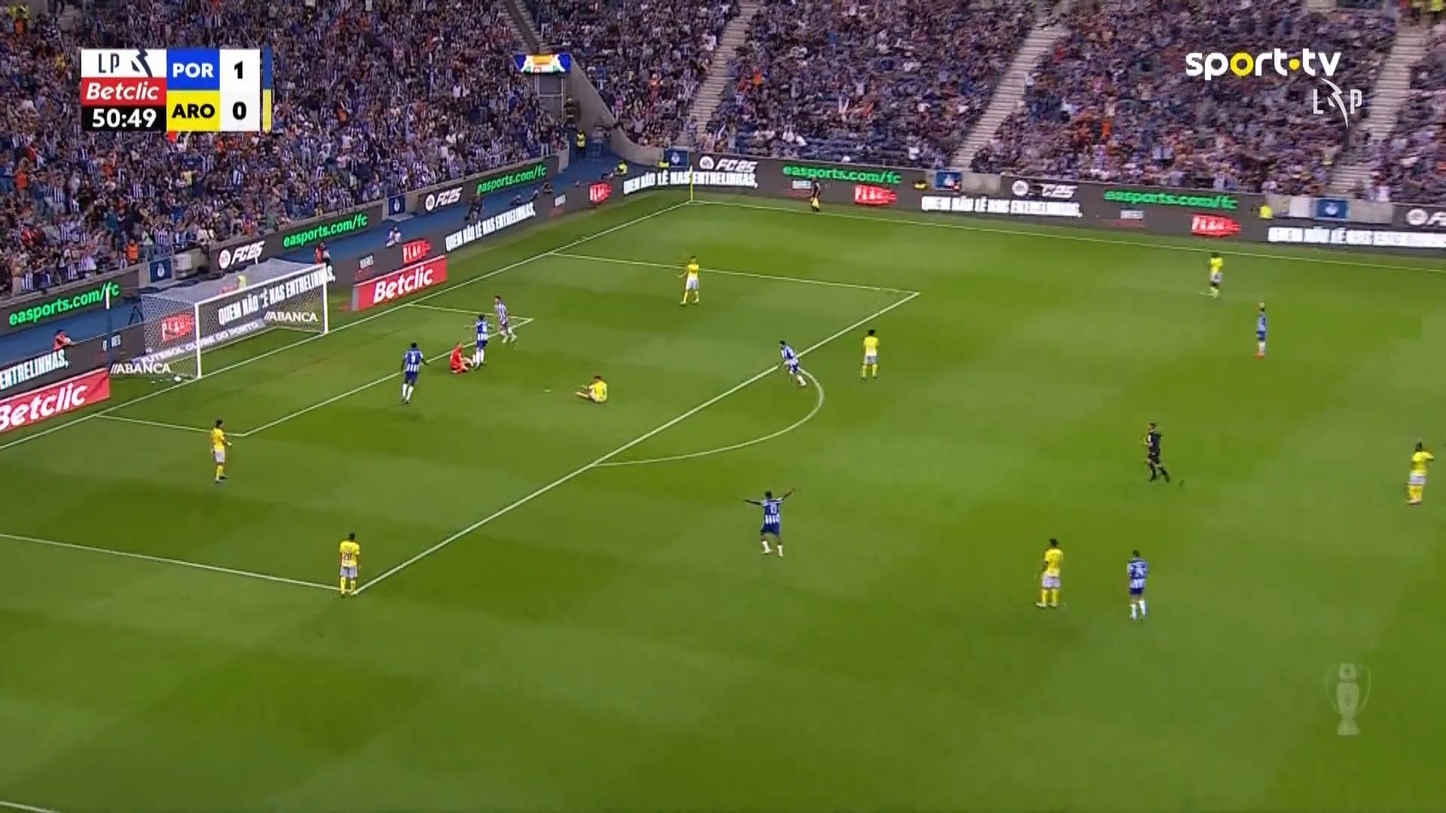goalkeeper: (448, 340, 472, 373)
player: (743, 486, 795, 557), (1035, 537, 1063, 608), (1404, 440, 1434, 504), (1125, 549, 1149, 621), (399, 341, 426, 403), (337, 531, 361, 596), (209, 419, 232, 483), (778, 339, 807, 386), (493, 294, 517, 348), (677, 254, 700, 306), (859, 327, 880, 379), (471, 312, 490, 368), (573, 374, 608, 403), (1253, 301, 1268, 358), (1206, 251, 1223, 297)
referee: (1142, 421, 1170, 482), (807, 177, 822, 213)
